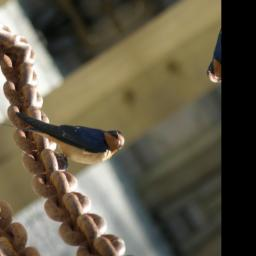Swallow: (0, 55, 130, 210)
